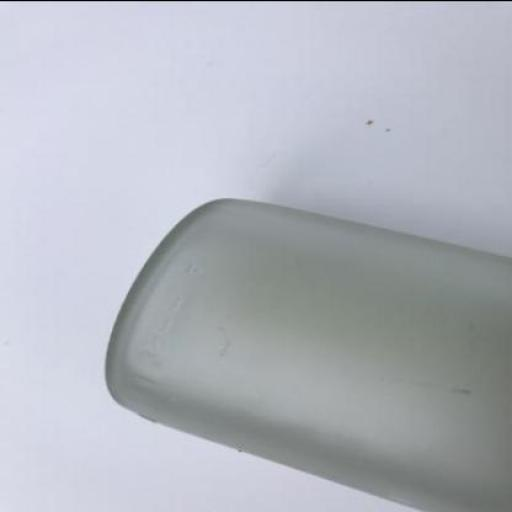glass: (104, 197, 510, 511)
